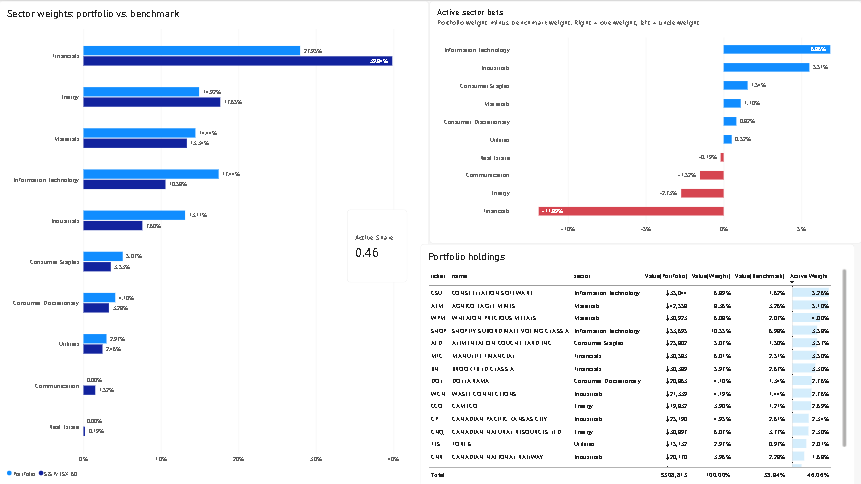

What the dashboard file says about the page in this screenshot:
{"tool":"powerbi","page":{"name":"Exposures","canvas":[1920,1080],"ordinal":1},"visuals":[{"type":"clusteredBarChart","title":"Sector weights: portfolio vs. benchmark","fields":{"Category":["public v_exposures_current.sector"],"Y":["Sum(public v_exposures_current.port_weight)","Sum(public v_exposures_current.bench_weight)"]},"box":[0,0,955.3,1080.7],"z":0},{"type":"clusteredBarChart","title":"Active sector bets","fields":{"Category":["public v_exposures_current.sector"],"Y":["Sum(public v_exposures_current.active_weight)"]},"box":[958.1,0,961,538.9],"z":1000},{"type":"tableEx","title":"Portfolio holdings","fields":{"Values":["public v_holdings_current.ticker","public v_holdings_current.name","public v_holdings_current.sector","Sum(public v_holdings_current.port_value)","Sum(public v_holdings_current.port_weight)","Sum(public v_holdings_current.bench_weight)","Sum(public v_holdings_current.active_weight)"]},"box":[935.3,538.9,963.8,541.8],"z":2000},{"type":"cardVisual","fields":{"Data":["public v_holdings_current.Active Share"]},"box":[772.8,461.9,134,162.5],"z":3000}]}

Visuals, with their boxes in screenshot pixels (x1, y1, x2, y2), scaled from the page's 1920x1080 canvas onto the 861x484 screenshot:
"Sector weights: portfolio vs. benchmark" clusteredBarChart: x1=0 y1=0 x2=428 y2=483
"Active sector bets" clusteredBarChart: x1=430 y1=0 x2=860 y2=242
"Portfolio holdings" tableEx: x1=419 y1=242 x2=852 y2=483
cardVisual - public v_holdings_current.Active Share: x1=347 y1=207 x2=407 y2=280
